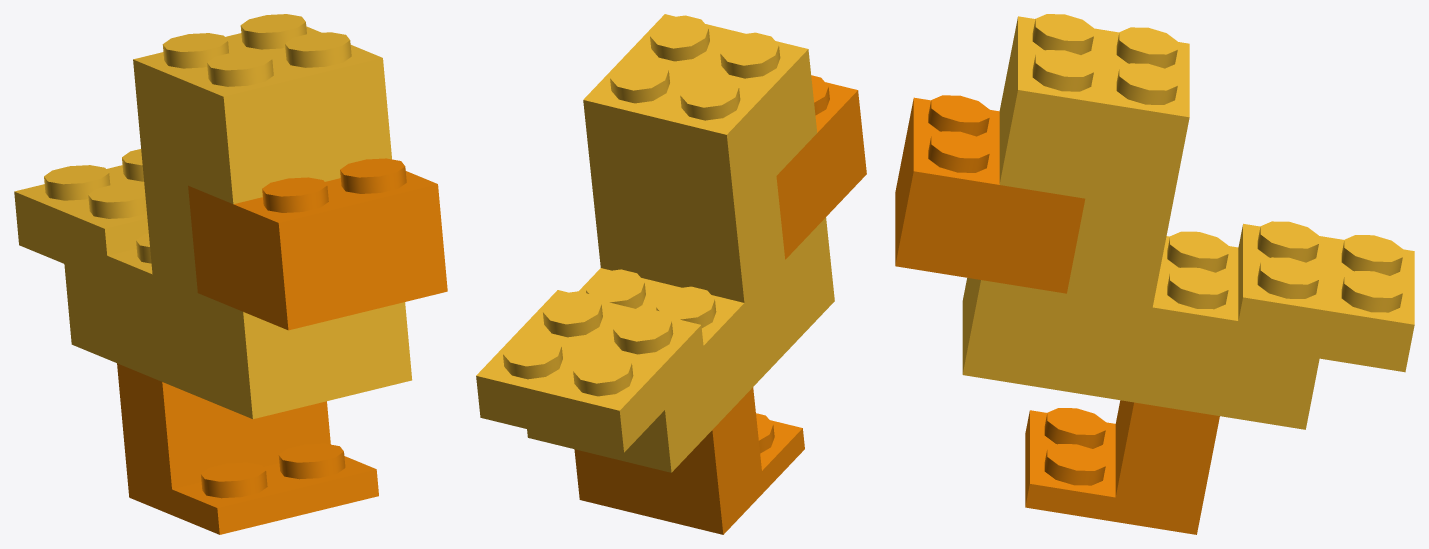
Rendered from Duck01_anim.FBX.
3 renders of one model, left to right at view 1: azimuth 30°, elevation 25°; view 2: azimuth 150°, elevation 25°; view 3: azimuth 270°, elevation 25°, orthographic. The views are drawn at different scales.
Visible parts, largest first — view 1: Duck_Anim; view 2: Duck_Anim; view 3: Duck_Anim.
Boxes of the visible parts, x1=… form: Duck_Anim: x1=14, y1=14, x2=447, y2=534; Duck_Anim: x1=476, y1=14, x2=866, y2=534; Duck_Anim: x1=895, y1=14, x2=1414, y2=534.
Bounding box in the file's own units: 90 × 261 × 268.
